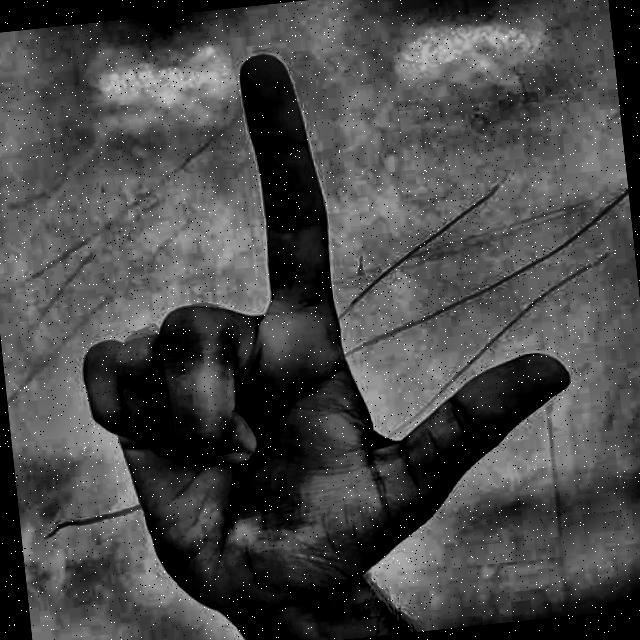La: (8, 0, 606, 640)
